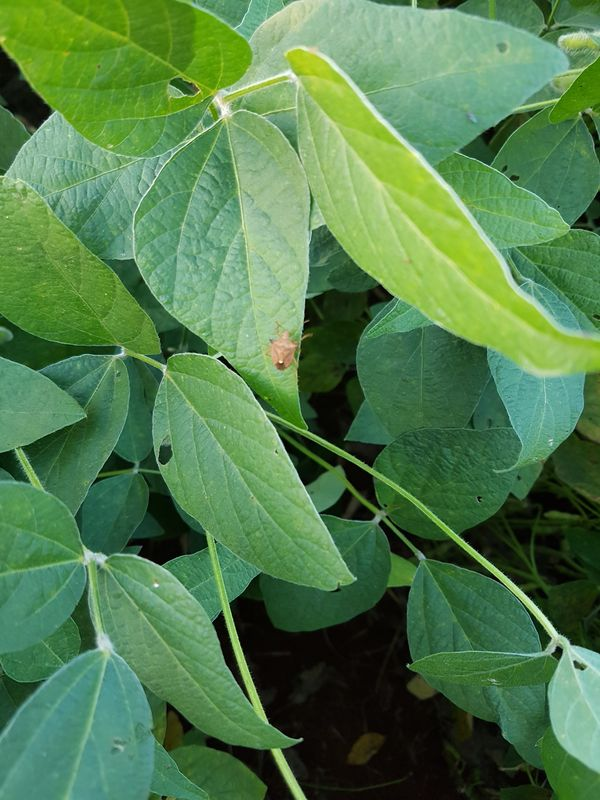Euschistus_heros_adulto: (256, 313, 315, 377)
